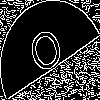O: (25, 25, 70, 85)
